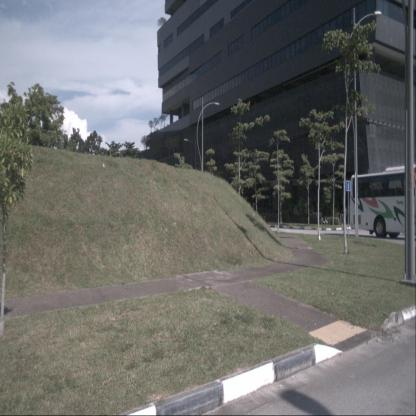vehicle-bicycle: (318, 212, 330, 226)
vehicle-bus-rigid: (350, 163, 415, 242)
